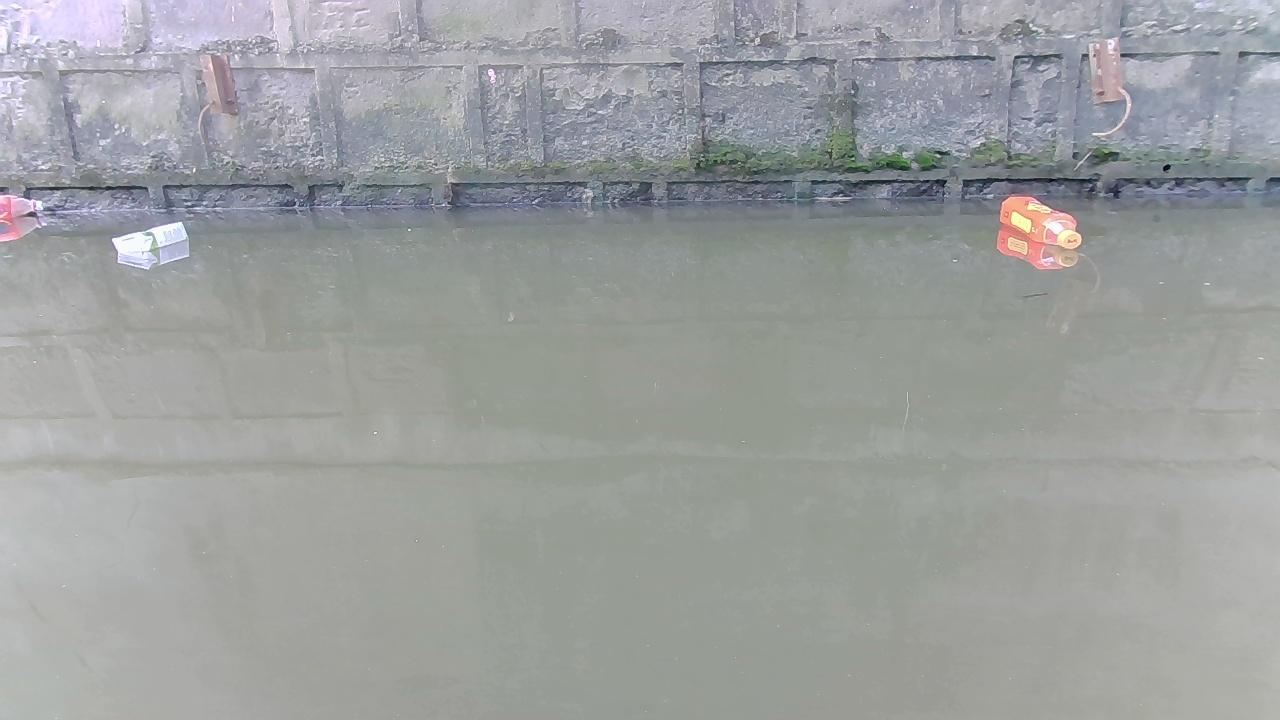bottle: (998, 196, 1086, 250), (109, 216, 186, 254), (0, 195, 49, 224)
